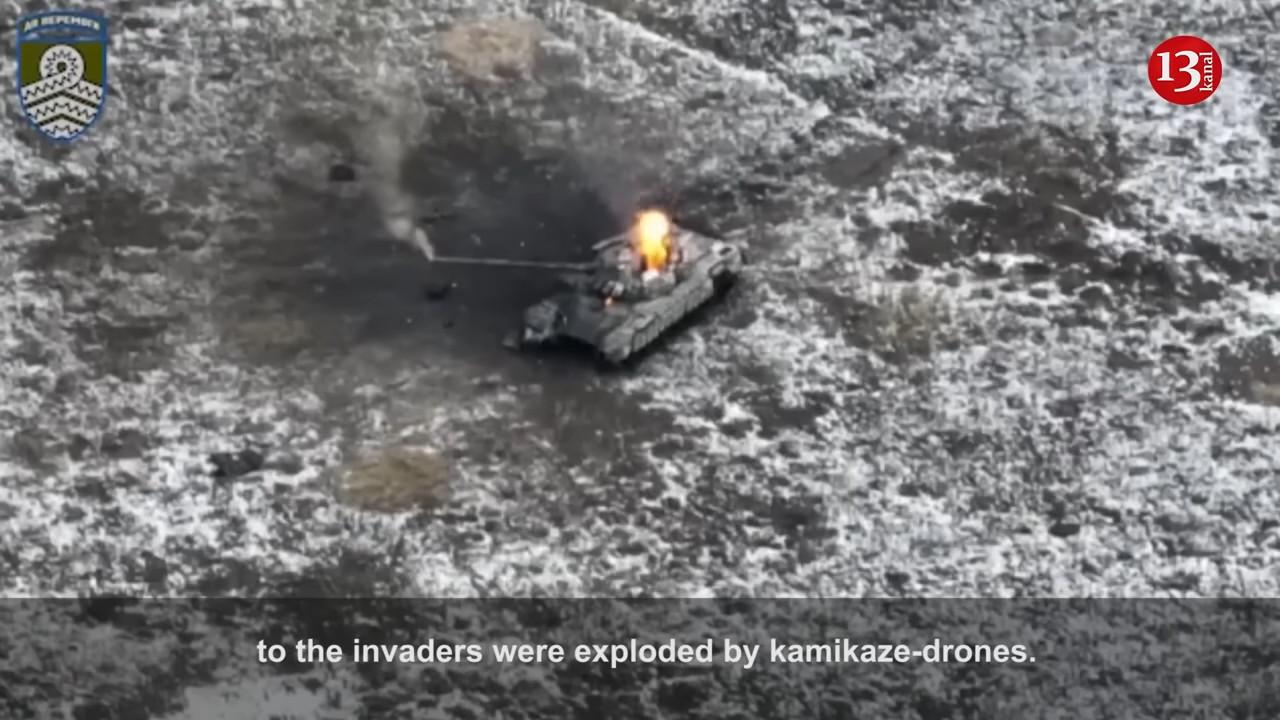tank: (429, 221, 740, 368)
